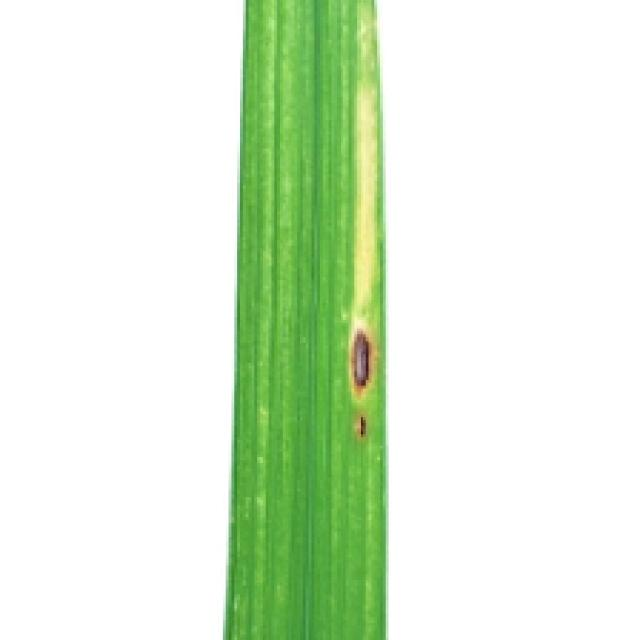Rice___Rice_Blast: (222, 0, 390, 637)
